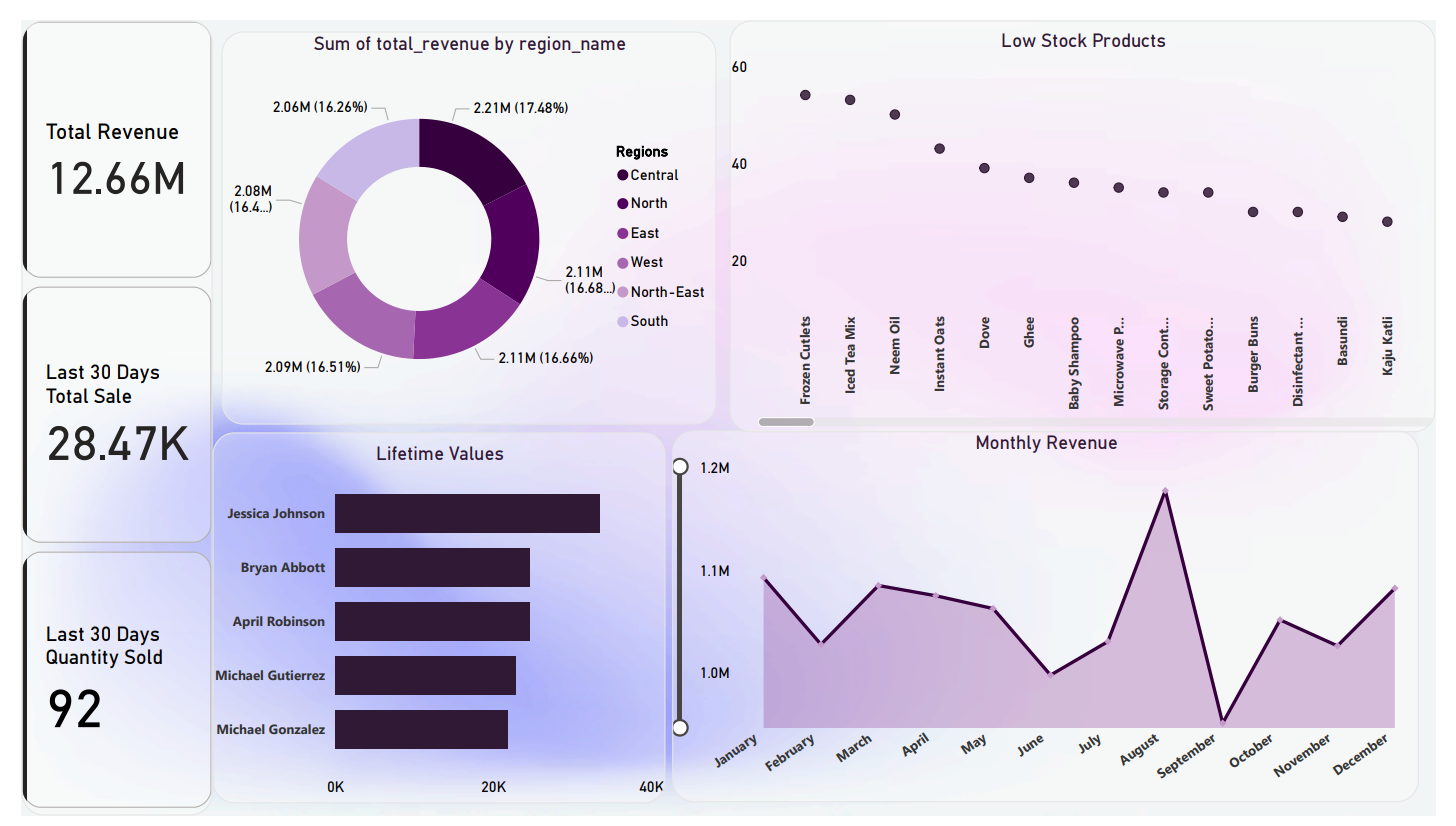

The dashboard page shown, as its layout file describes it:
{"tool":"powerbi","page":{"name":"Sql Filter & Extract Insights","canvas":[1280,720],"ordinal":2},"visuals":[{"type":"clusteredBarChart","title":"Lifetime Values","fields":{"Category":["customer_lifetime_value.customer_name"],"Y":["customer_lifetime_value.lifetime_value"]},"box":[173.3,372.5,410.1,336.4],"z":0},{"type":"lineChart","title":"Monthly Revenue","fields":{"Category":["daily_sales_summary.sale_date.Variation.Date Hierarchy.Month"],"Y":["daily_sales_summary.total_revenue"]},"box":[589.1,371.1,675.7,336.4],"z":1000},{"type":"scatterChart","title":"Low Stock Products","fields":{"X":["low_stock_product.product_name"],"Y":["low_stock_product.Sum Of Quantity"]},"box":[641.4,0,638.6,372.9],"z":2000},{"type":"donutChart","fields":{"Category":["region_wise_revenue.region_name"],"Y":["region_wise_revenue.total_revenue"]},"box":[181.4,10,447.1,355.7],"z":3000},{"type":"cardVisual","fields":{"Data":["daily_sales_summary.total_revenue","top_product_last_30days.total_sale","top_product_last_30days.total_quantity_sold"]},"box":[0,0,173.3,720.5],"z":4000}]}

Visuals, with their boxes in screenshot pixels (x1, y1, x2, y2), scaled from the page's 1280x720 canvas onto the 1456x826 screenshot:
"Lifetime Values" clusteredBarChart: {"x1": 197, "y1": 427, "x2": 664, "y2": 813}
"Monthly Revenue" lineChart: {"x1": 670, "y1": 426, "x2": 1439, "y2": 812}
"Low Stock Products" scatterChart: {"x1": 730, "y1": 0, "x2": 1455, "y2": 428}
donutChart - region_wise_revenue.region_name x region_wise_revenue.total_revenue: {"x1": 206, "y1": 11, "x2": 715, "y2": 420}
cardVisual - daily_sales_summary.total_revenue x top_product_last_30days.total_sale: {"x1": 0, "y1": 0, "x2": 197, "y2": 825}
